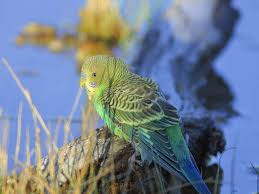budgie: (78, 53, 213, 194)
